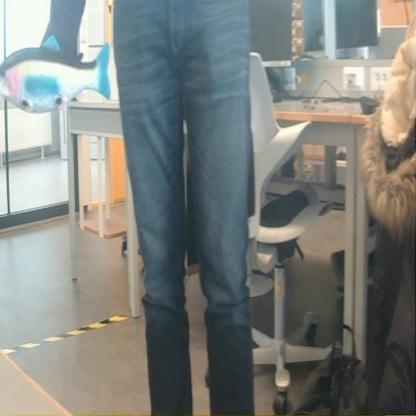rubberfish: (0, 32, 117, 118)
